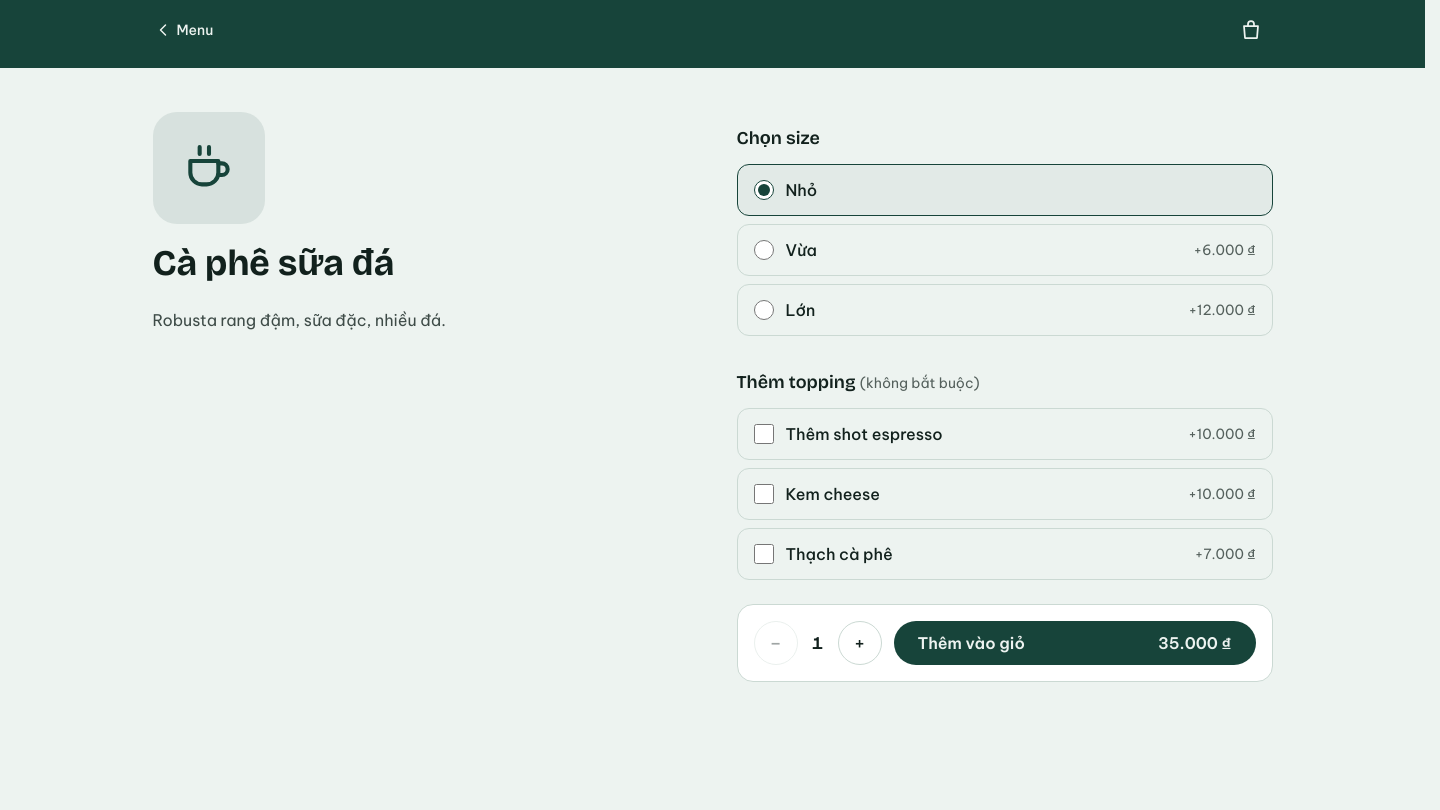
Test case: ProductDetailScreen › thêm vào giỏ với đúng lựa chọn và hiện thông báo
The width and height of the screenshot is (1440, 810).
Expected: the heading "Cà phê sữa đá" is shown, [152,242,394,285]
Click the radio button labelled "Lớn +12.000 ₫" at (764, 310), box [754,300,774,320]
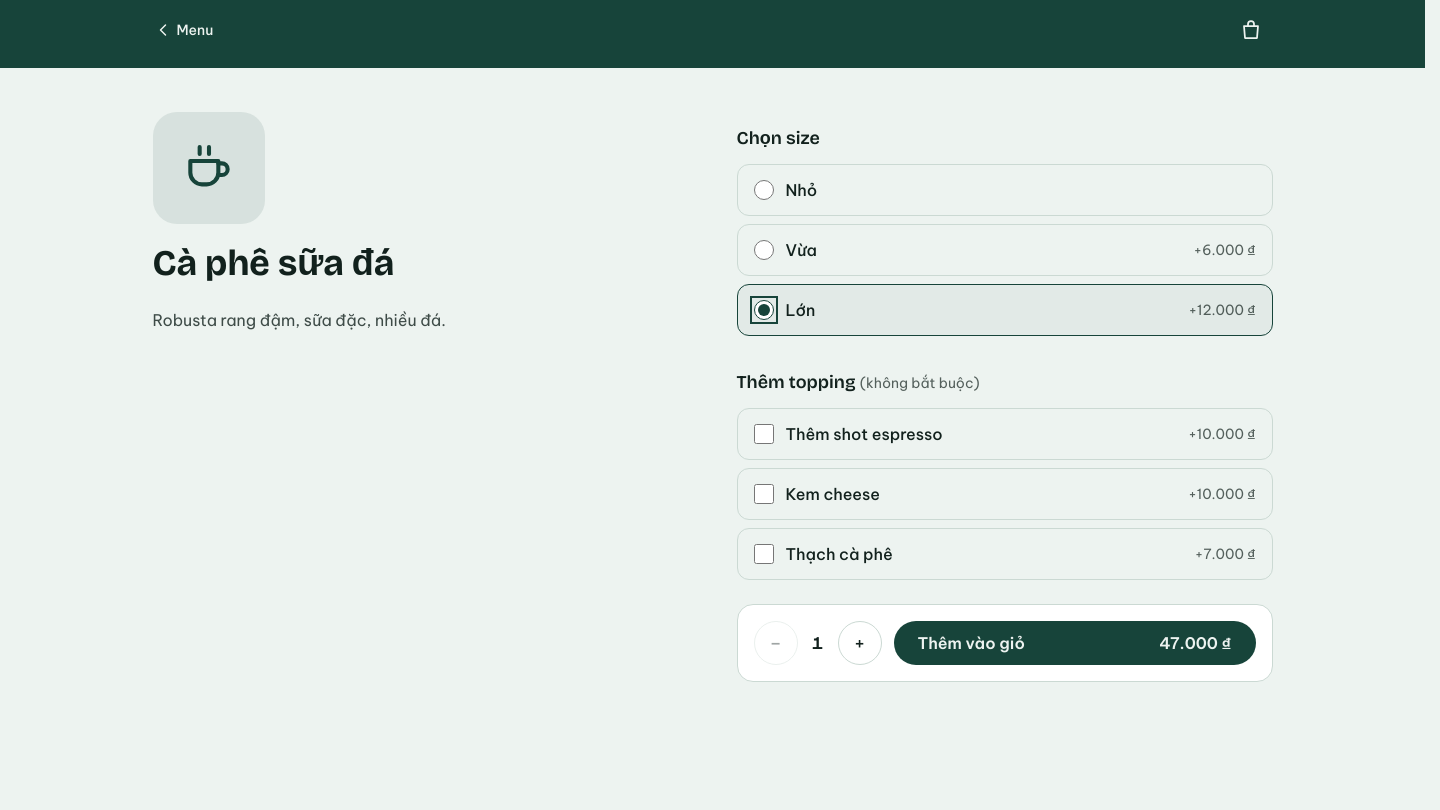
Click the checkbox labelled "Kem cheese +10.000 ₫" at (764, 494), box [754,484,774,504]
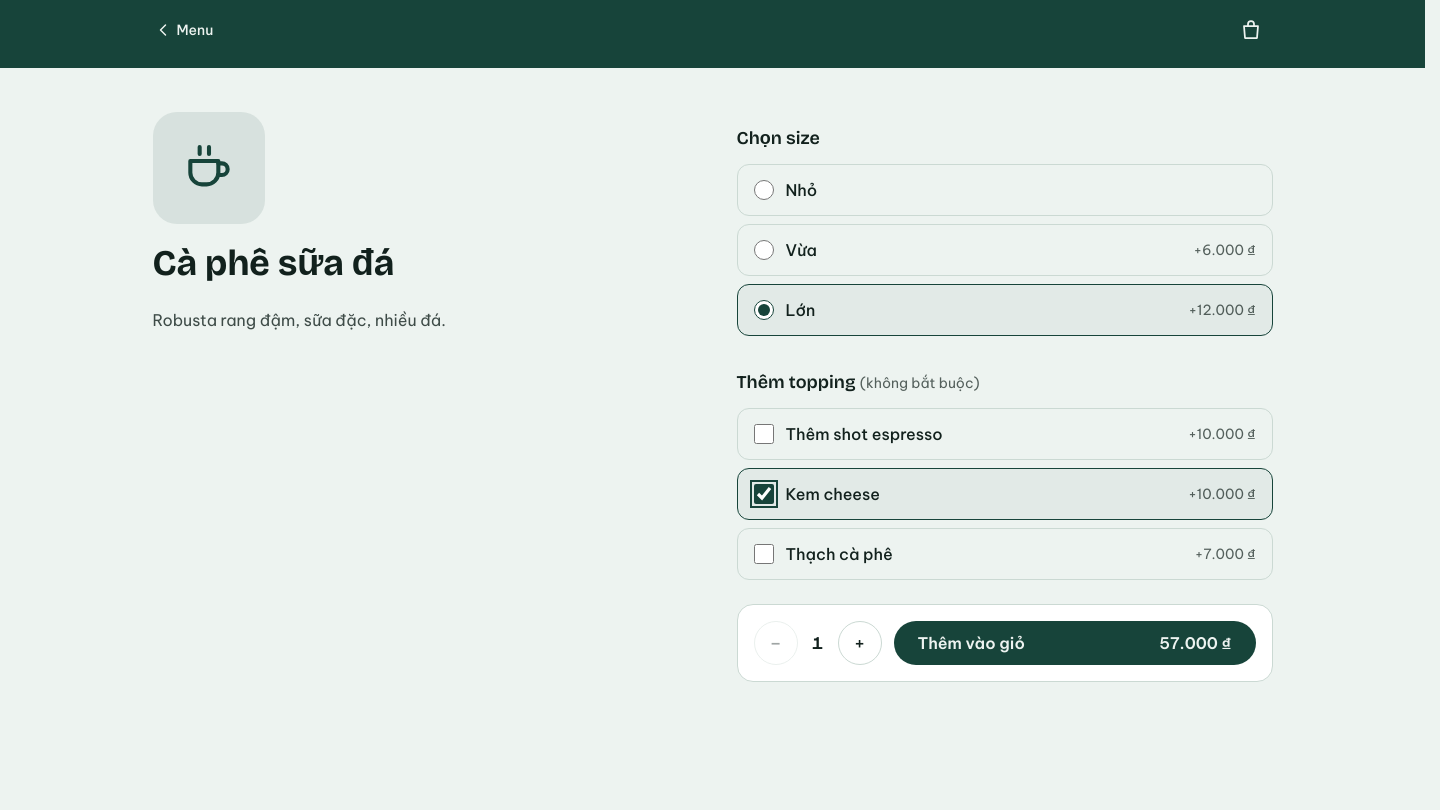
Click the button "+" at (860, 643), box [838,621,882,665]
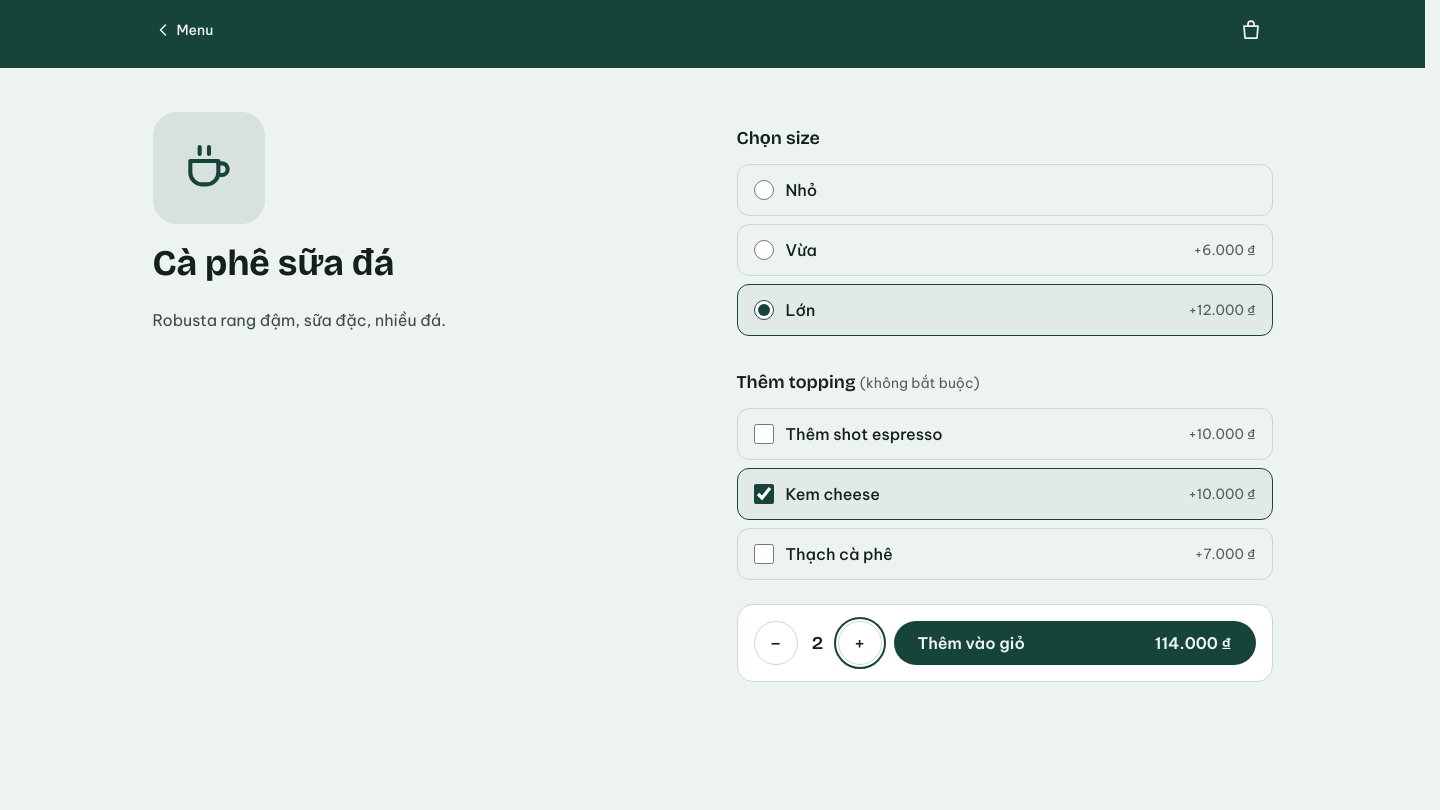
Click the button "Thêm vào giỏ 114.000 ₫" at (971, 643), box [894,621,1256,665]
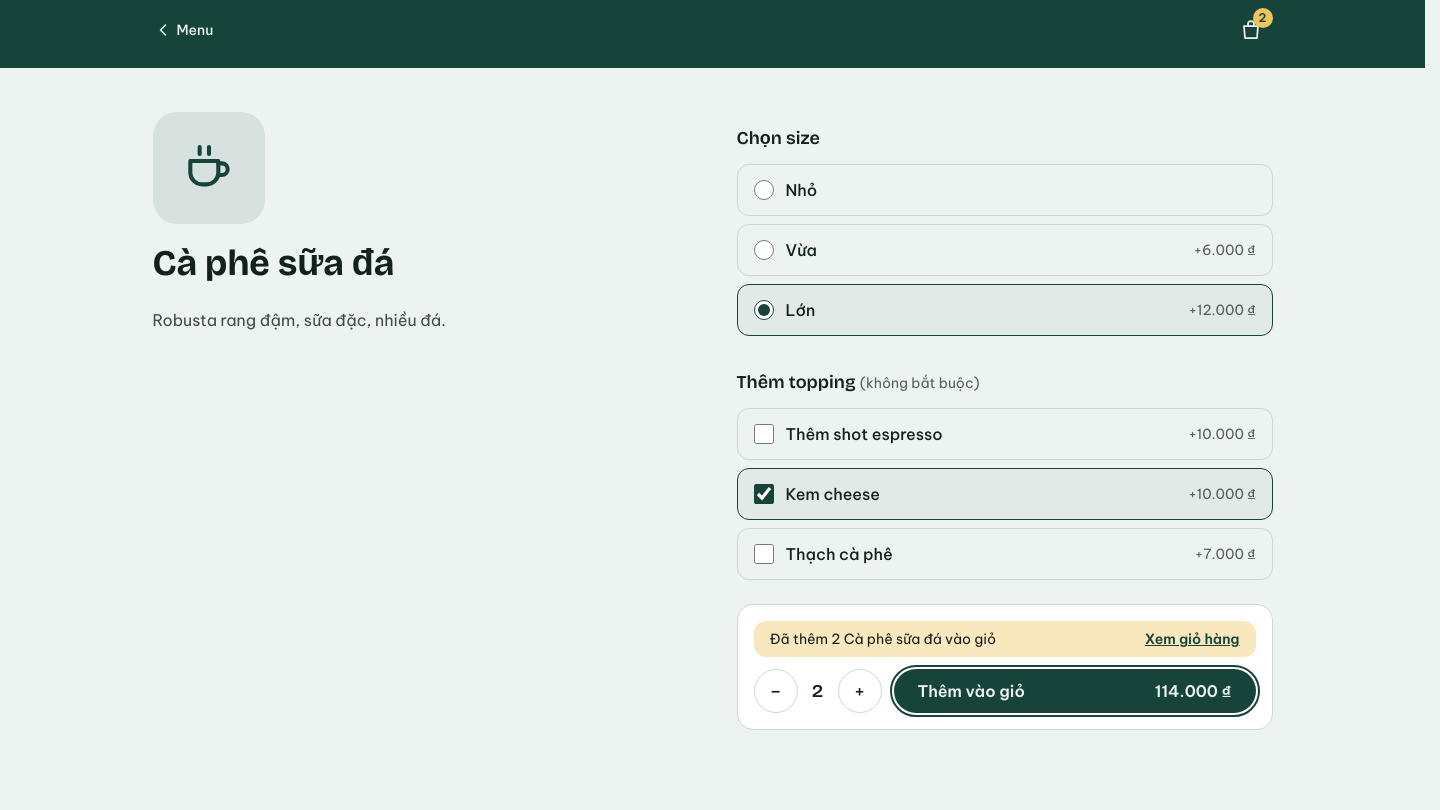
Now the text "Đã thêm 2 Cà phê sữa đá vào giỏ" is shown, box [770,629,996,649]
Now the link named "Giỏ hàng, 2 món" is shown, box [1238,8,1272,42]
